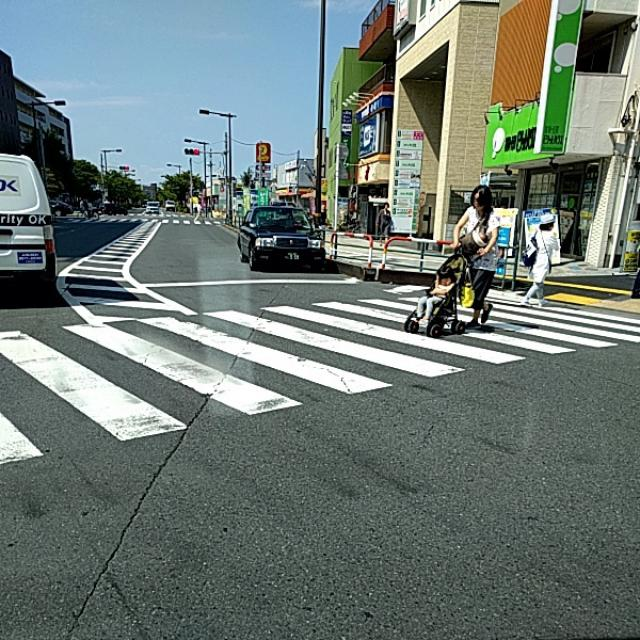pothole: (146, 438, 202, 518)
